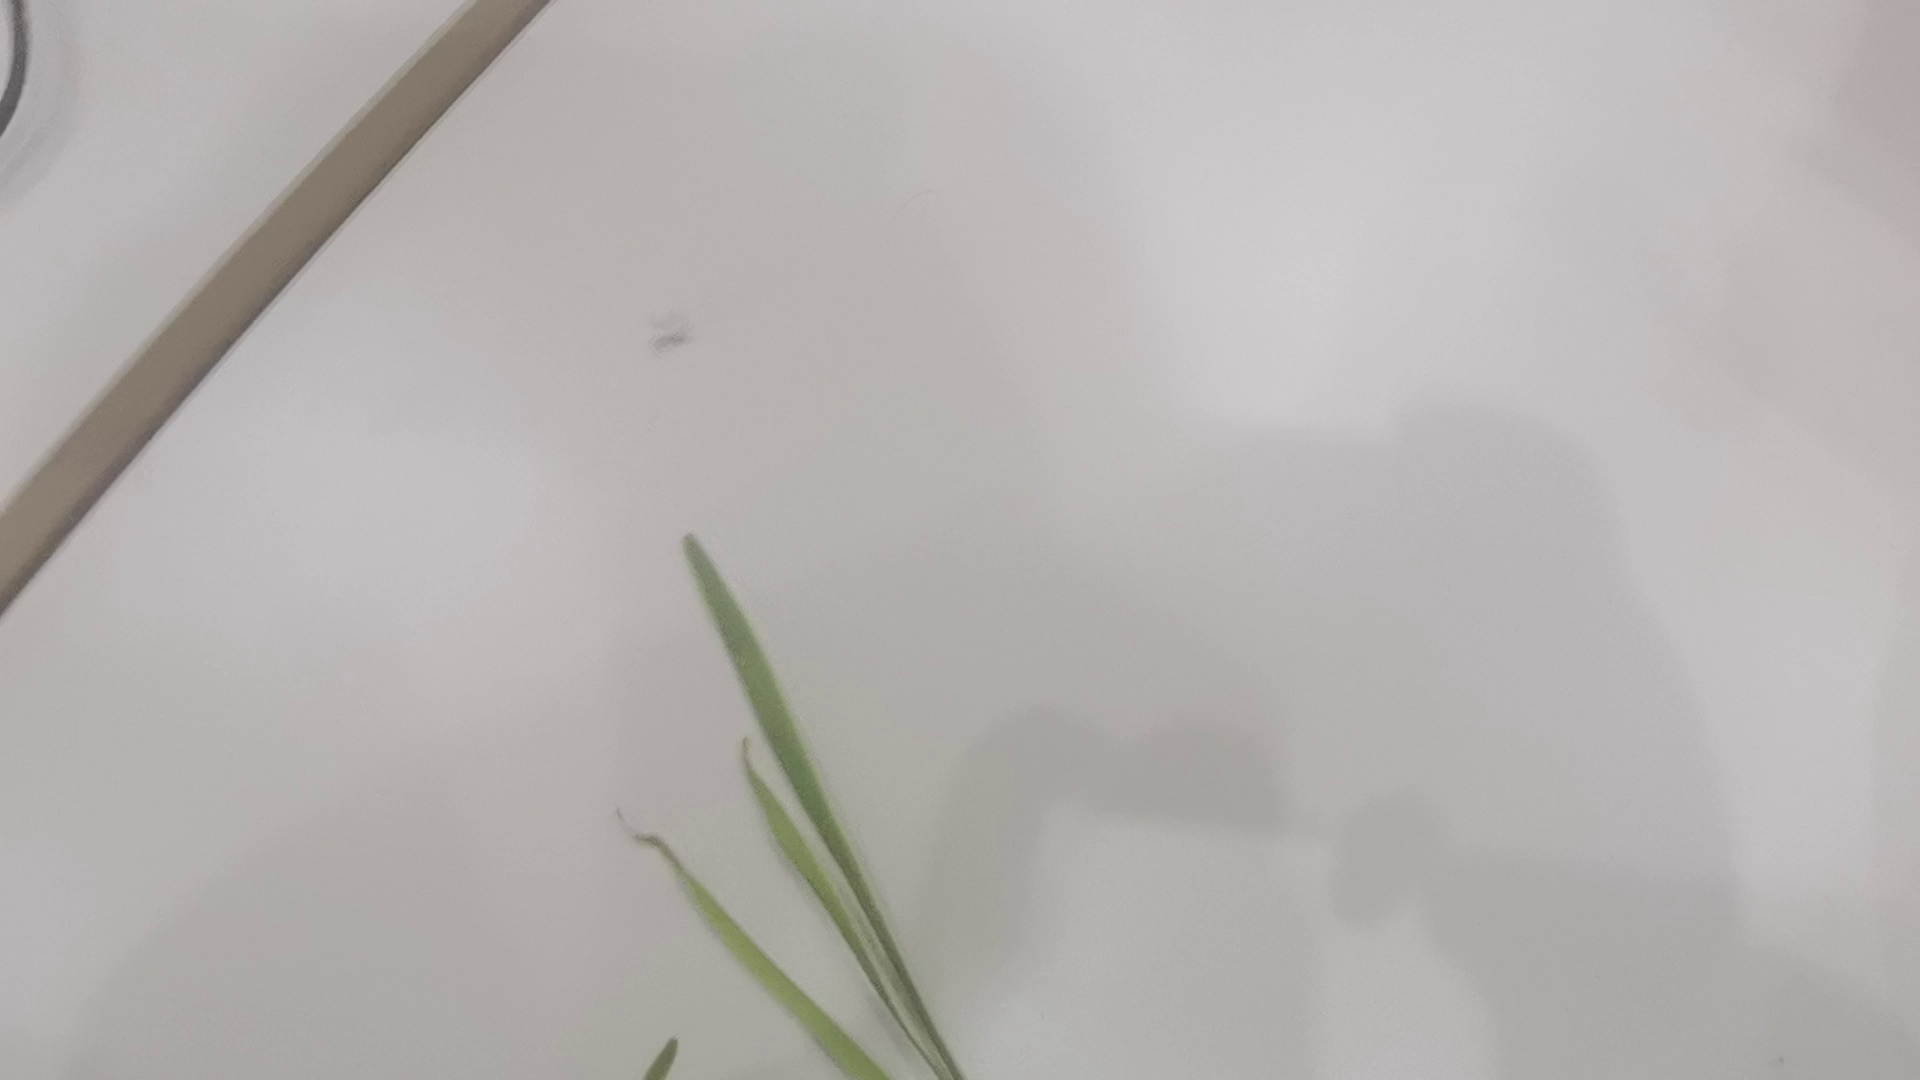chives: (510, 531, 967, 1080)
